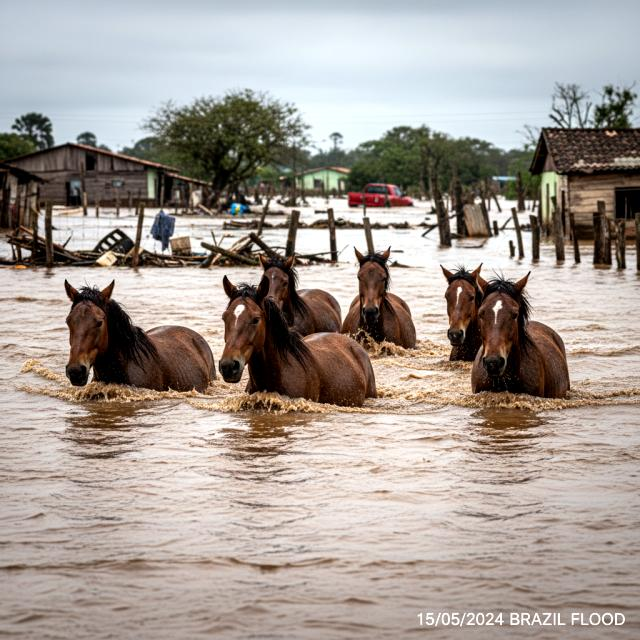horse: (218, 277, 383, 414), (61, 274, 221, 414), (467, 265, 577, 410), (342, 242, 425, 357), (254, 251, 349, 338), (435, 258, 503, 364)
